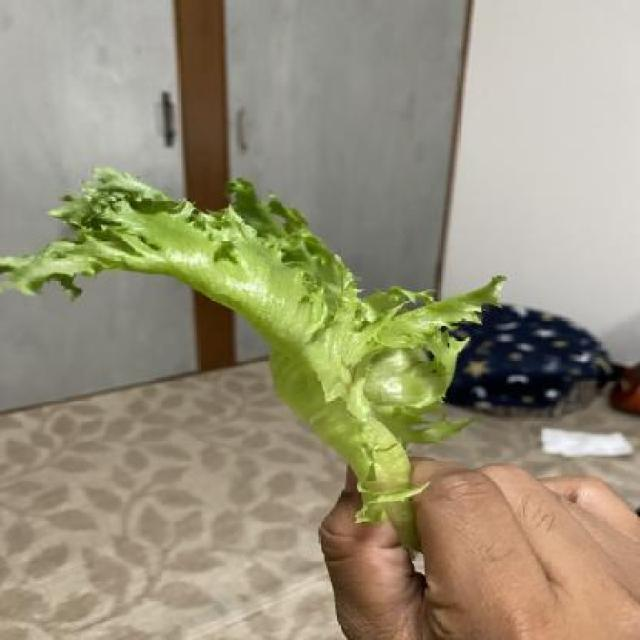Lettuce: (2, 166, 504, 526)
